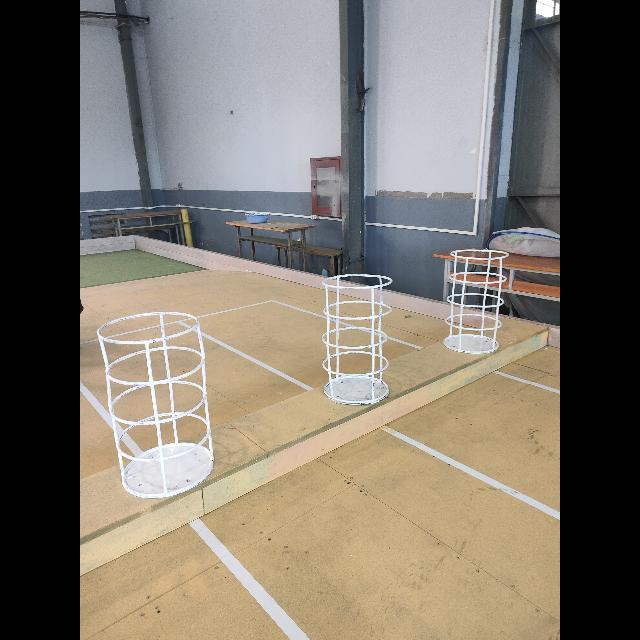S: (95, 312, 215, 498), (321, 273, 393, 405), (443, 248, 510, 353)
